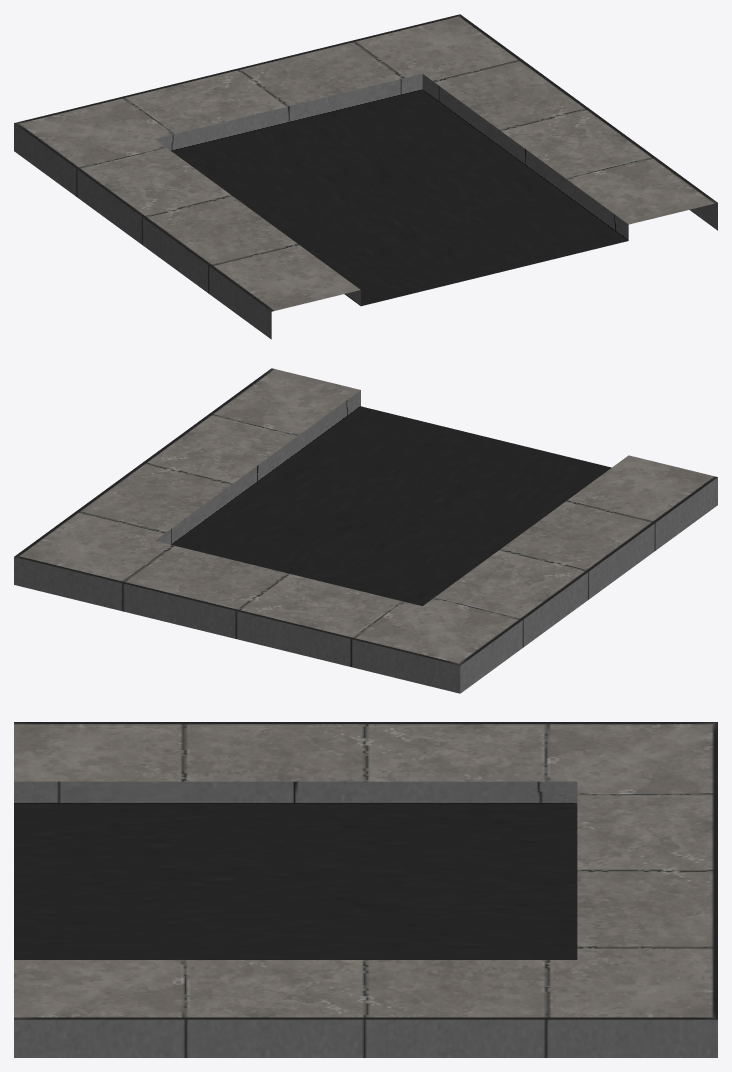
Rendered from 2L-end.fbx.
The picture shows the model from 3 angles, top to bottom: view 1: azimuth 30°, elevation 25°; view 2: azimuth 150°, elevation 25°; view 3: azimuth 270°, elevation 25°; orthographic projection. The views are drawn at different scales.
Parts seen in each view (by area): view 1: 2L-end_LOD0; view 2: 2L-end_LOD0; view 3: 2L-end_LOD0.
Boxes of the visible parts, box(x1,y1,x2,y2) form: 2L-end_LOD0: box(14, 14, 717, 339); 2L-end_LOD0: box(14, 368, 717, 693); 2L-end_LOD0: box(14, 722, 717, 1057).
Size of what is drawn, in the model's own units: 200 by 12 by 200.
